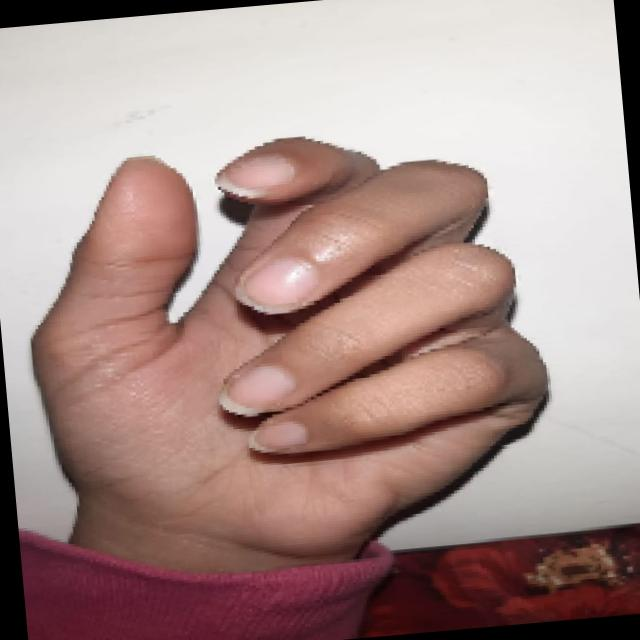Nail: (236, 257, 317, 313), (218, 363, 295, 416), (215, 151, 294, 198), (248, 419, 307, 452)
